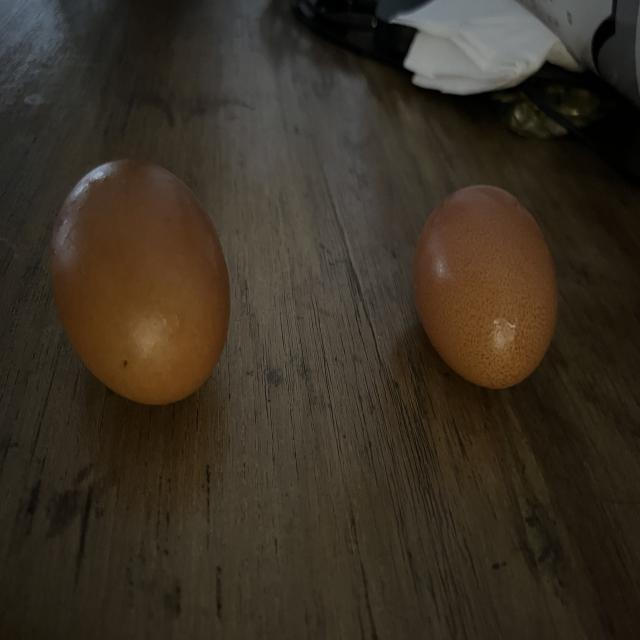egg: (40, 158, 234, 412), (401, 180, 562, 402)
